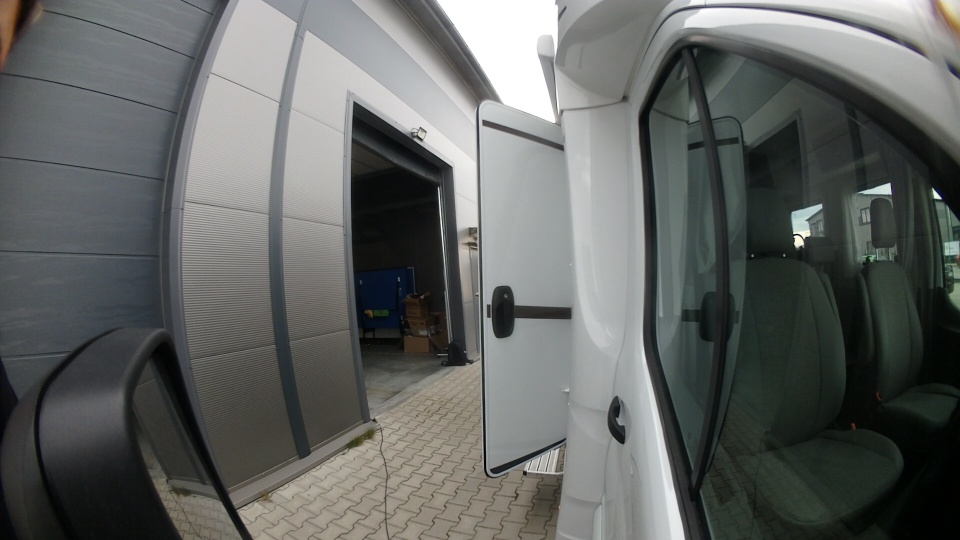door_front: (455, 84, 589, 480)
step_front: (517, 439, 568, 480)
